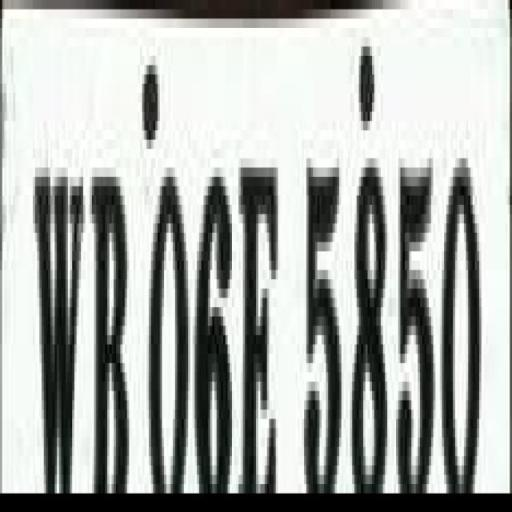number plate: (2, 9, 483, 512)
